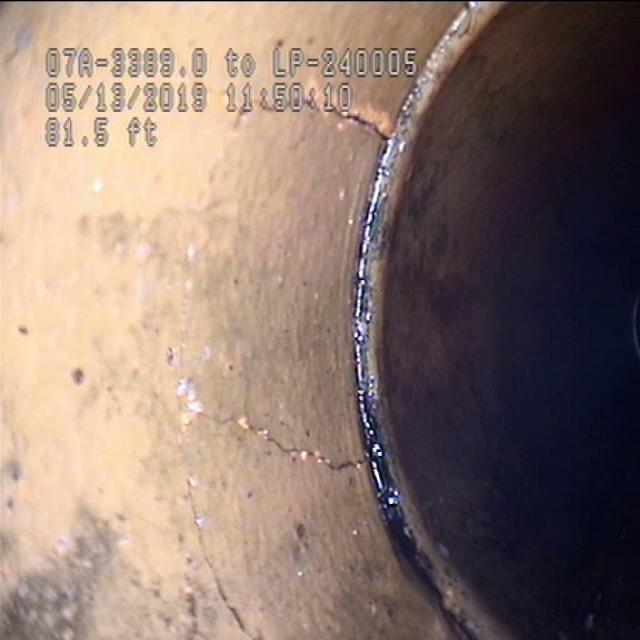Crack: (169, 329, 373, 519)
